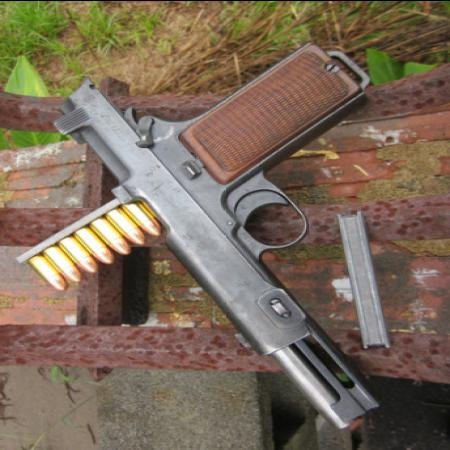Pistol: (47, 39, 378, 430)
